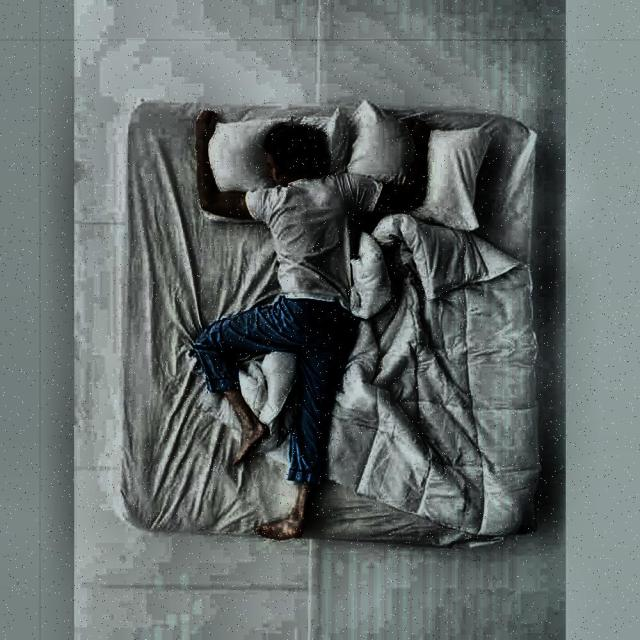Not_Supine: (192, 110, 381, 539)
